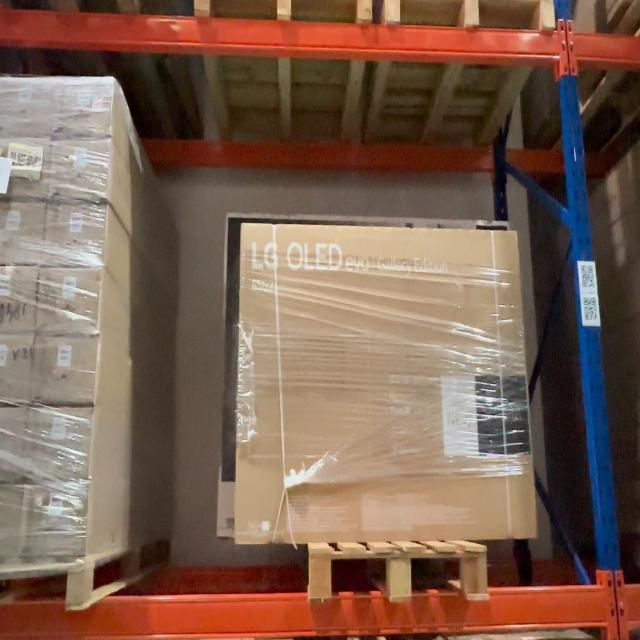box: (241, 225, 517, 538)
